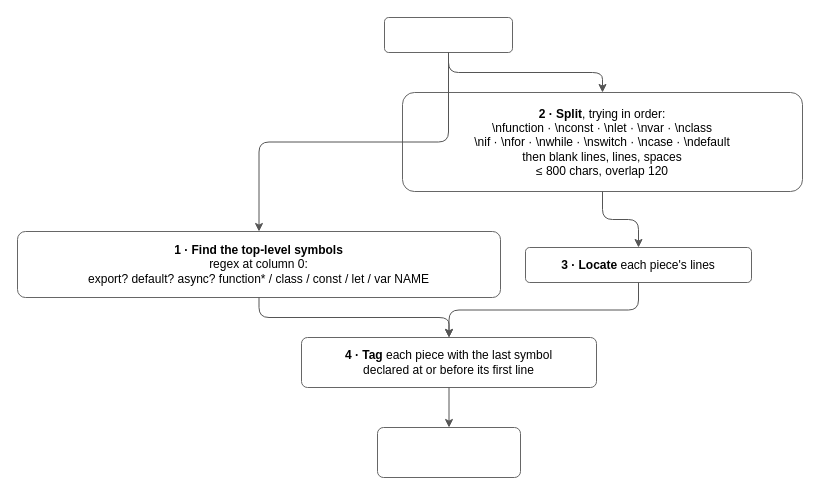
Some shapes in this 820 by 495 pixel diagram are drawn without their labels. Here are the shapes that lost their labels. From the top down, the centre of each, then its label:
At [448,34]: "JavaScript file".
At [448,452]: "5 · Head // path :: symbol".
